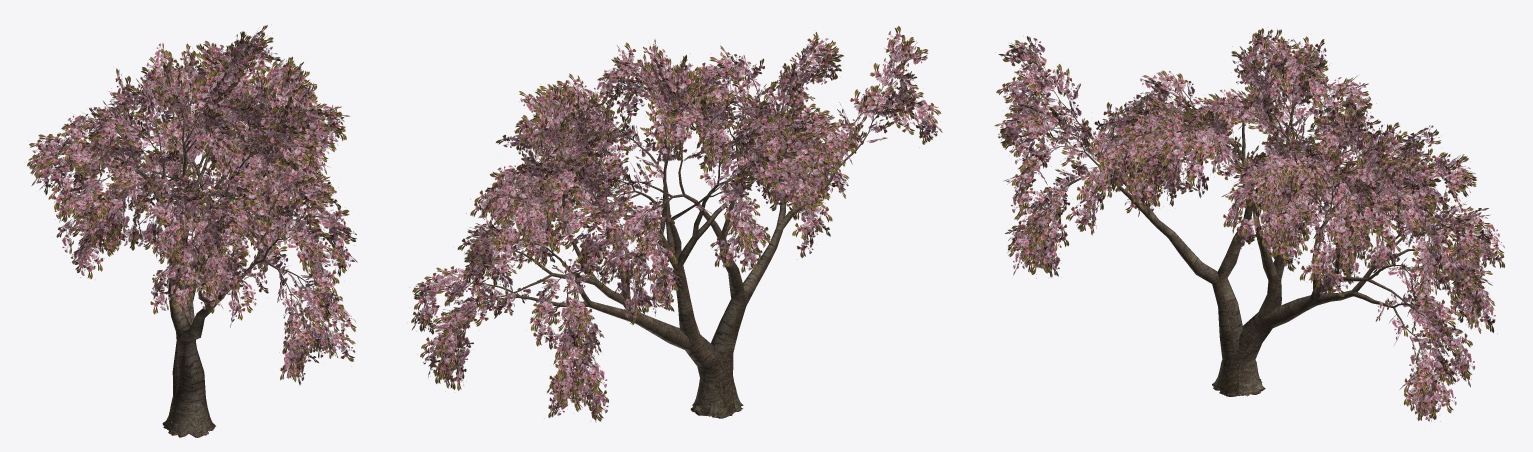
The model's file is tree_sakura.glb.
3 renders of one model, left to right at view 1: azimuth 30°, elevation 25°; view 2: azimuth 150°, elevation 25°; view 3: azimuth 270°, elevation 25°, orthographic.
Visible parts, largest first — view 1: body; view 2: body; view 3: body.
Part boxes in pixels (x1,y1,x2,y2): body: (24,24,357,437); body: (409,26,942,421); body: (994,27,1505,421).
Bounding box in the file's own units: 7.21 × 7 × 9.39.
2 materials, 2 textured.
